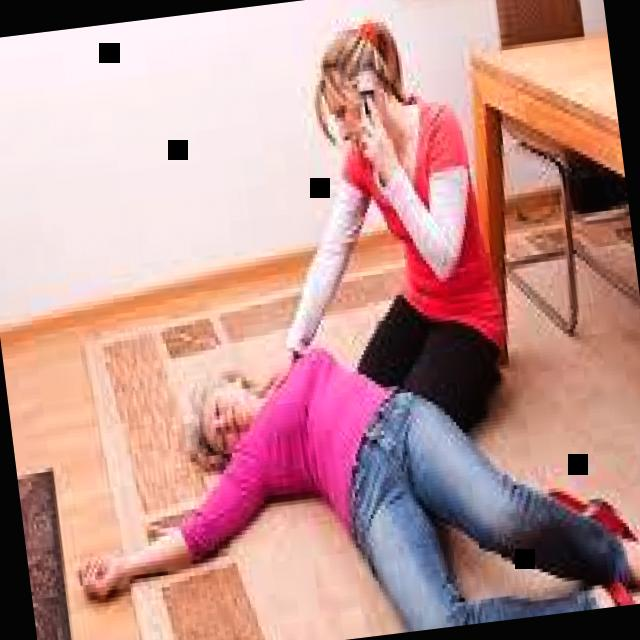Fall-Detected: (17, 281, 640, 640)
